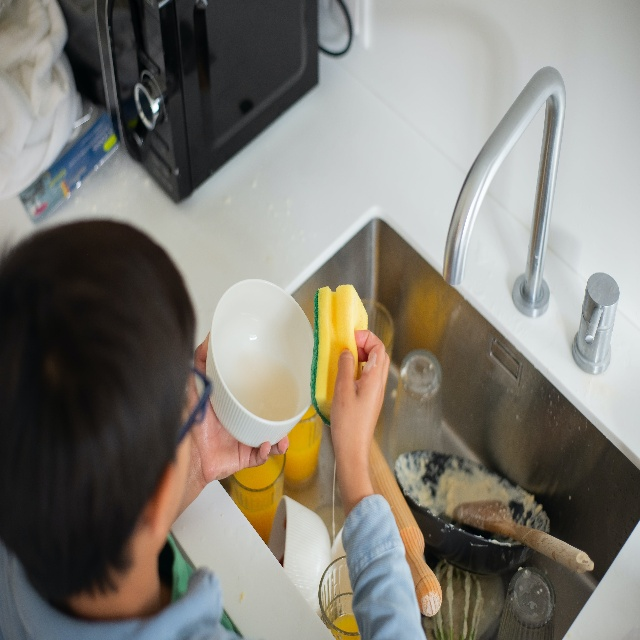Gafas: (169, 368, 212, 457)
Sin_guantes: (188, 331, 289, 485), (329, 327, 391, 455)
